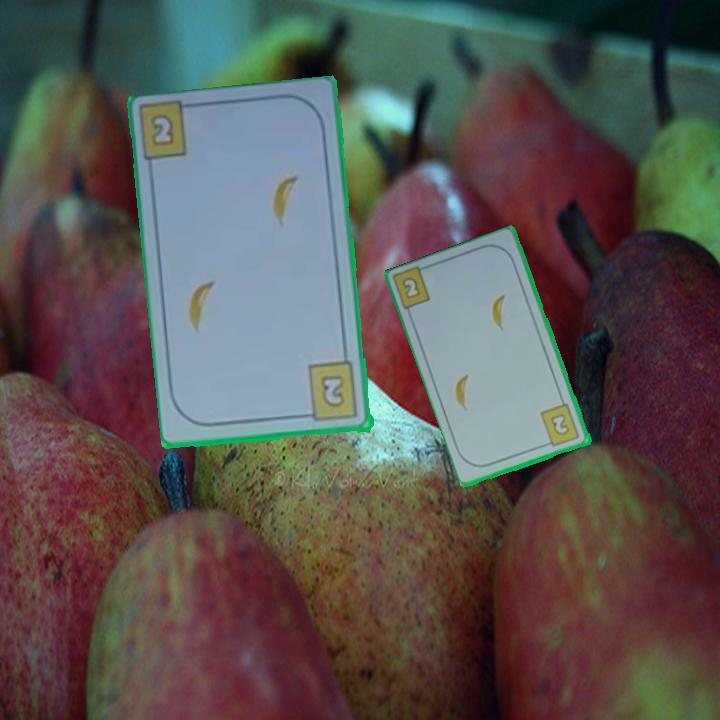2b: (300, 359, 361, 425), (537, 400, 583, 450), (147, 110, 178, 150), (398, 273, 424, 302)
